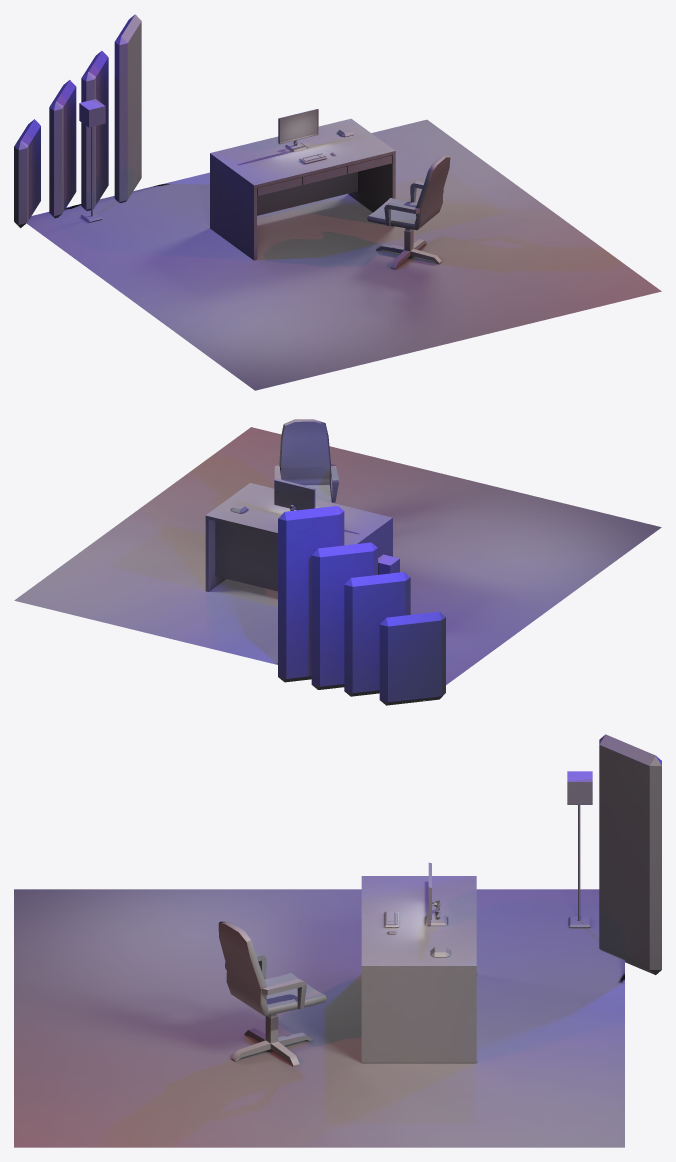
The model's file is composition.glb.
The picture shows the model from 3 angles, top to bottom: view 1: azimuth 30°, elevation 25°; view 2: azimuth 150°, elevation 25°; view 3: azimuth 270°, elevation 25°; orthographic projection. The views are drawn at different scales.
Visible parts, largest first — view 1: Plane, Cube.001.0, Cube.016, defaultMaterial, Display, Cube; view 2: Plane, Cube.016, Cube.001.0, defaultMaterial, Display; view 3: Plane, Cube.001.0, Cube.016, defaultMaterial, Cube, Cylinder.
Boxes of the visible parts, x1=… form: Plane: x1=27, y1=119, x2=661, y2=390; Cube.001.0: x1=210, y1=118, x2=395, y2=260; Cube.016: x1=14, y1=14, x2=141, y2=227; defaultMaterial: x1=367, y1=156, x2=450, y2=269; Display: x1=278, y1=109, x2=318, y2=144; Cube: x1=79, y1=99, x2=105, y2=127; Plane: x1=14, y1=427, x2=661, y2=700; Cube.016: x1=278, y1=506, x2=445, y2=705; Cube.001.0: x1=205, y1=483, x2=392, y2=591; defaultMaterial: x1=274, y1=419, x2=338, y2=502; Display: x1=274, y1=478, x2=315, y2=510; Plane: x1=14, y1=889, x2=624, y2=1147; Cube.001.0: x1=361, y1=876, x2=476, y2=1063; Cube.016: x1=599, y1=734, x2=661, y2=974; defaultMaterial: x1=218, y1=921, x2=326, y2=1066; Cube: x1=567, y1=771, x2=592, y2=804; Cylinder: x1=568, y1=805, x2=590, y2=927.
Bounding box in the file's own units: 14.19 × 5.9 × 14.64.
Materials: 14 (14 with a texture image).
